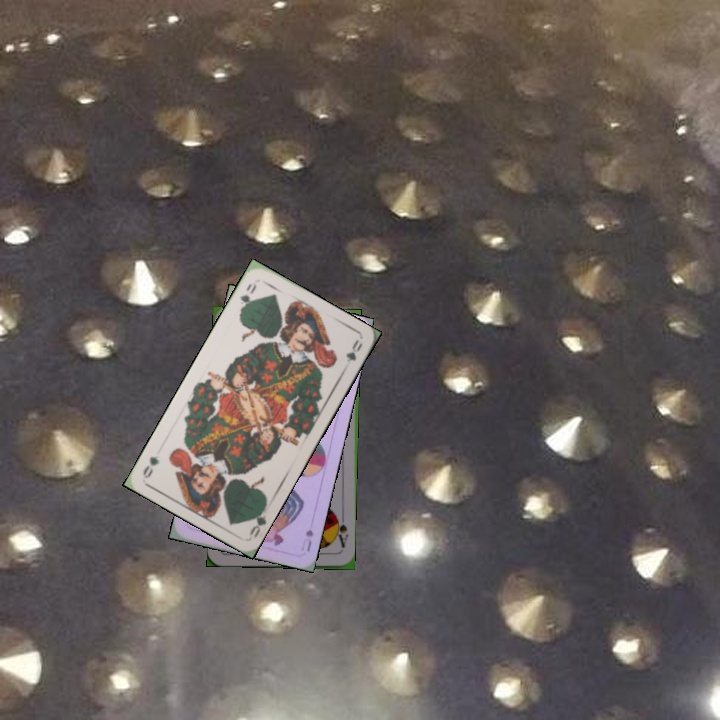GO: (245, 501, 269, 540), (236, 279, 259, 316)
SA: (331, 512, 351, 553)
SU: (297, 525, 316, 554)
